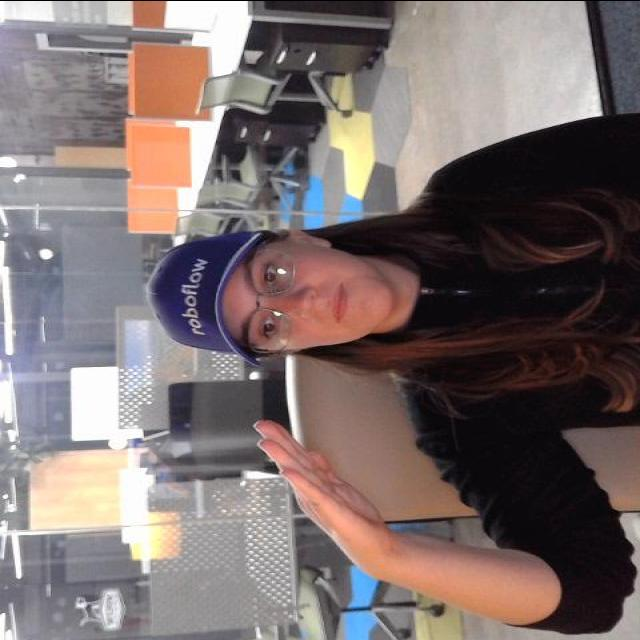Paper: (238, 352, 428, 591)
